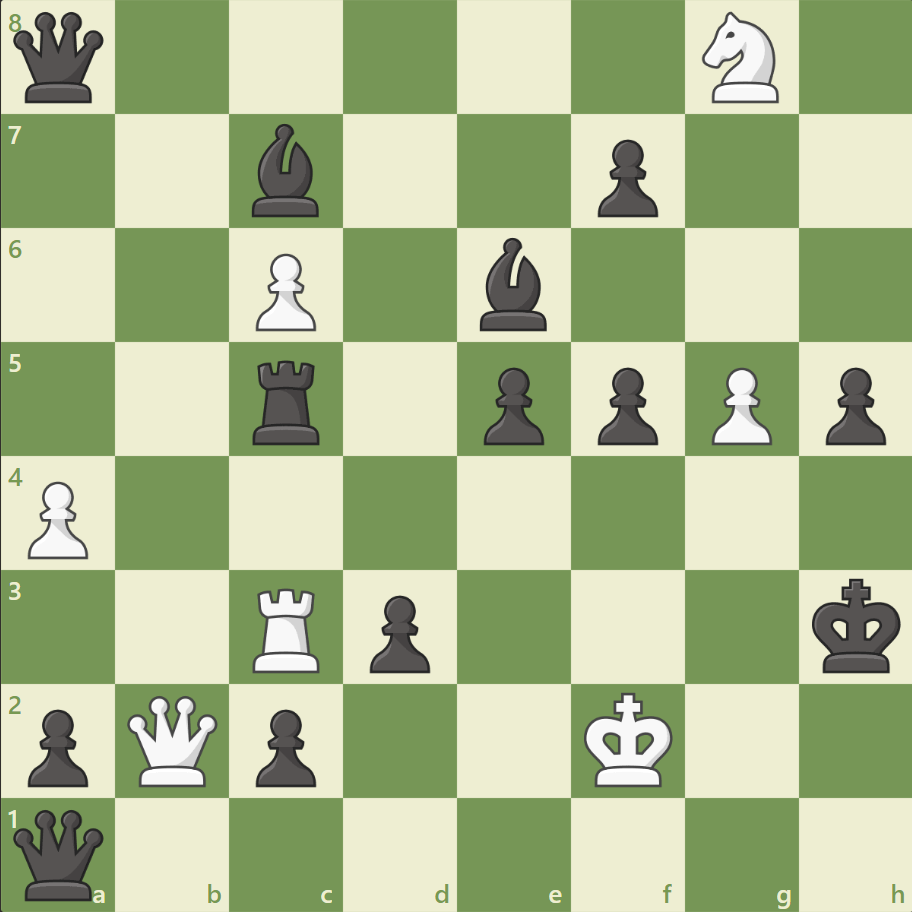K: (579, 685, 679, 793)
N: (692, 7, 789, 110)
P: (247, 246, 322, 337), (701, 359, 776, 450), (20, 473, 95, 564)
Q: (124, 690, 223, 789)
R: (246, 579, 329, 676)
b: (471, 233, 555, 336), (244, 120, 328, 222)
k: (806, 571, 906, 679)
p: (474, 359, 549, 450), (20, 700, 95, 791), (247, 700, 322, 791), (588, 132, 662, 223), (588, 359, 662, 450), (815, 359, 889, 450), (361, 586, 435, 677)
q: (10, 9, 109, 108), (10, 804, 109, 903)
r: (246, 352, 329, 449)
